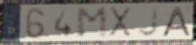4: (53, 7, 75, 39)
6: (24, 7, 47, 41)
A: (160, 5, 192, 38)
J: (137, 6, 160, 38)
M: (75, 6, 109, 39)
X: (107, 6, 133, 39)
